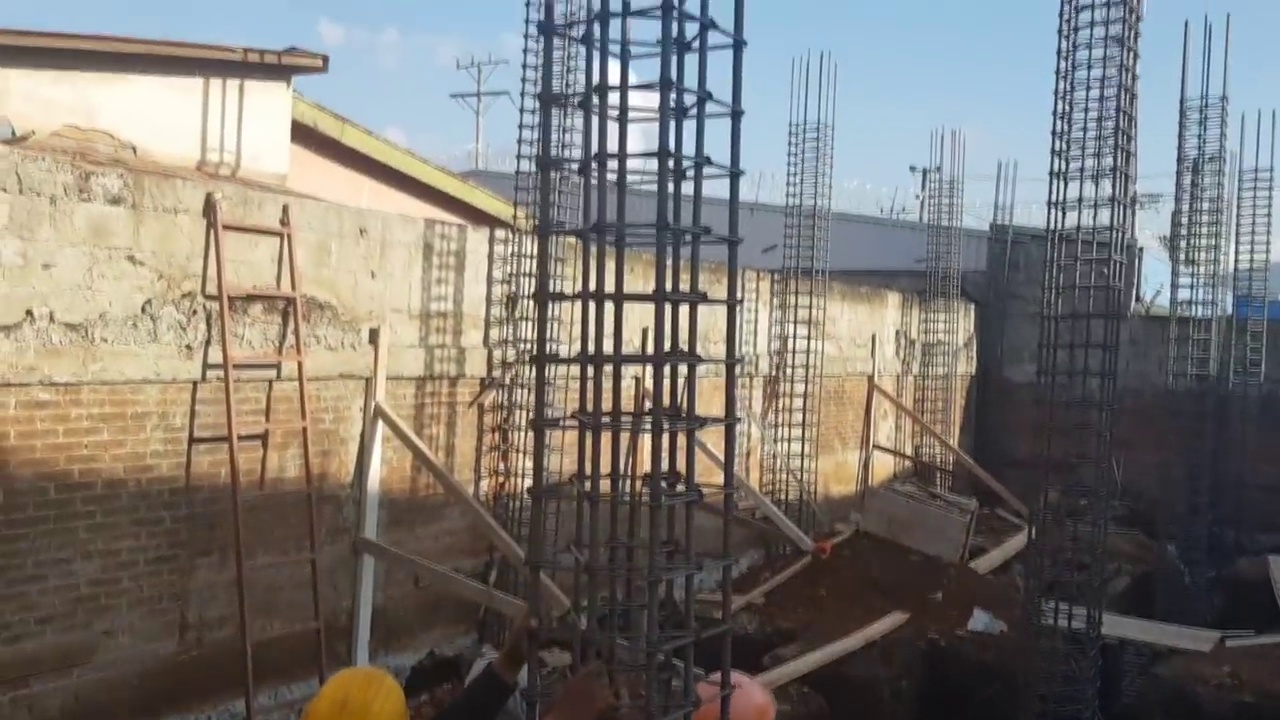helmet: (296, 660, 409, 718), (694, 662, 781, 717)
